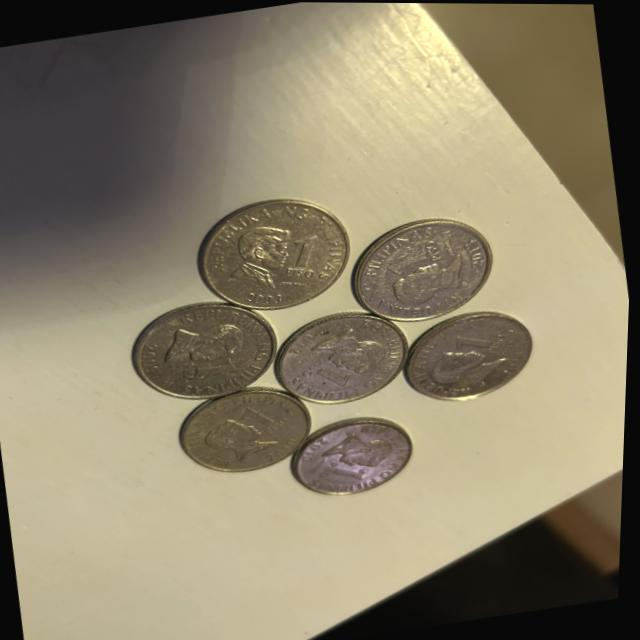1_Old_Front: (432, 310, 516, 365), (243, 390, 302, 443), (383, 234, 457, 276), (277, 222, 330, 279), (179, 341, 245, 386), (314, 446, 376, 491), (305, 353, 352, 389)
